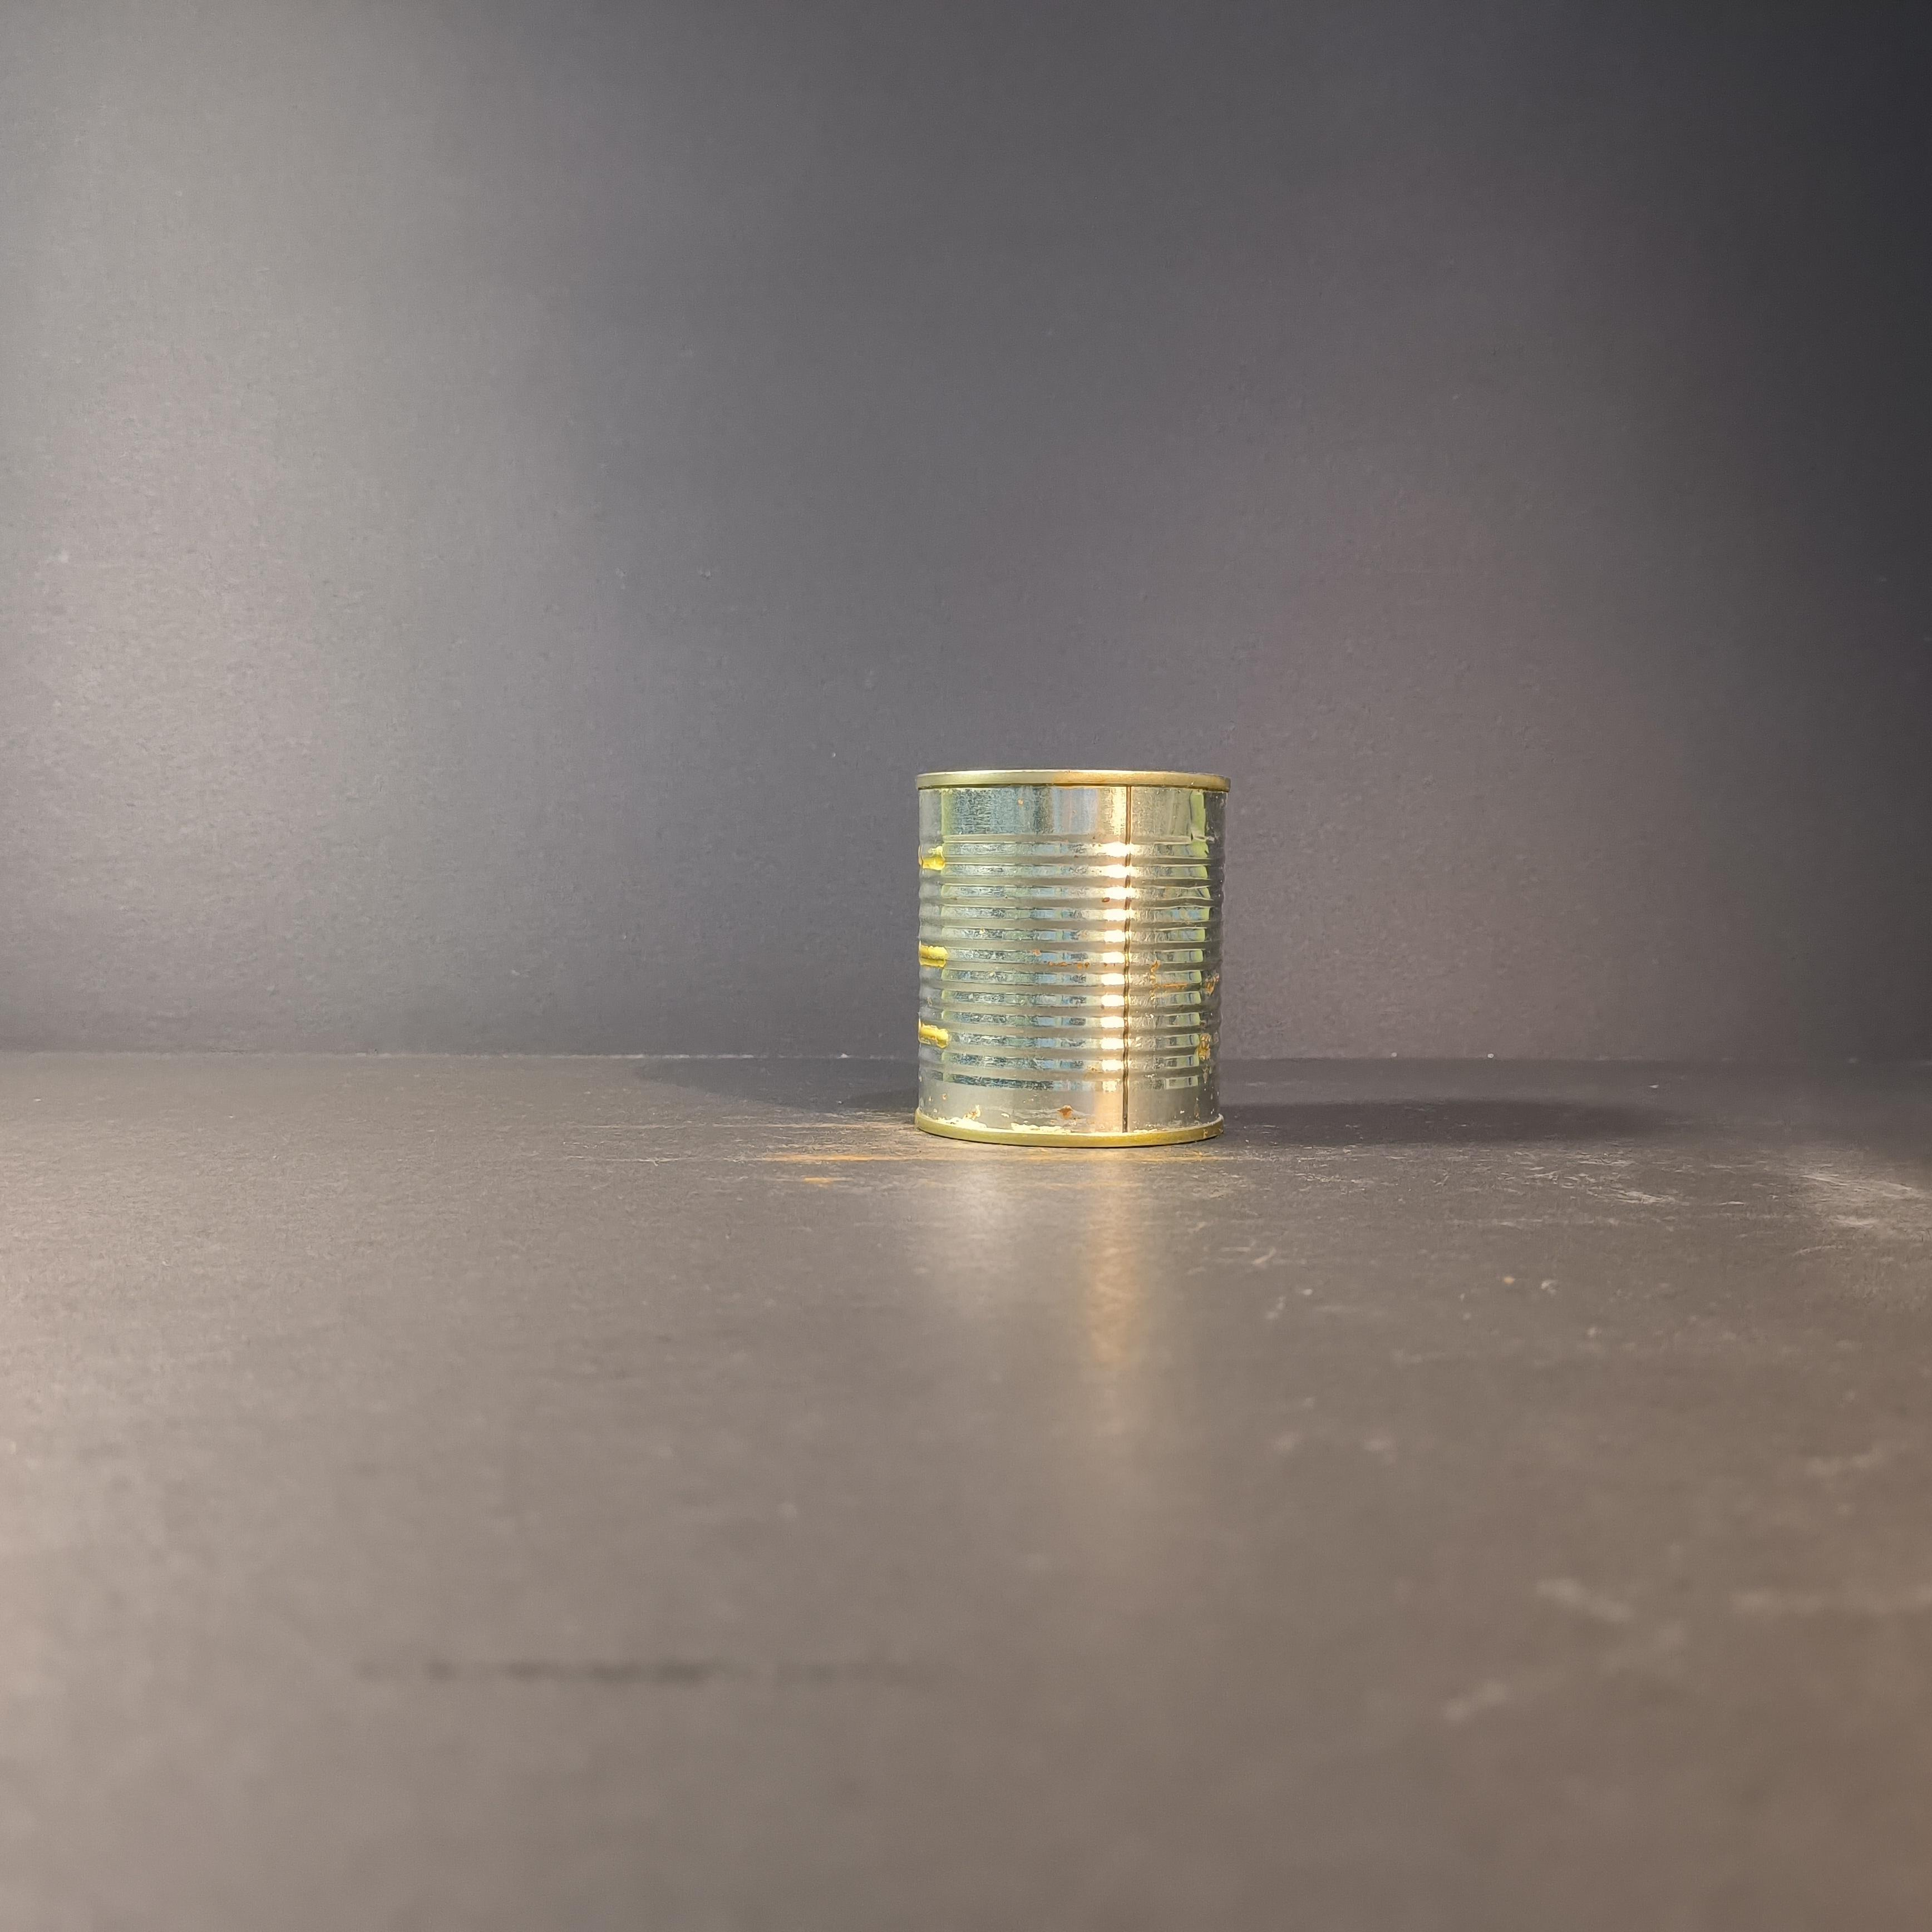Rusted: (908, 738, 1244, 1168)
